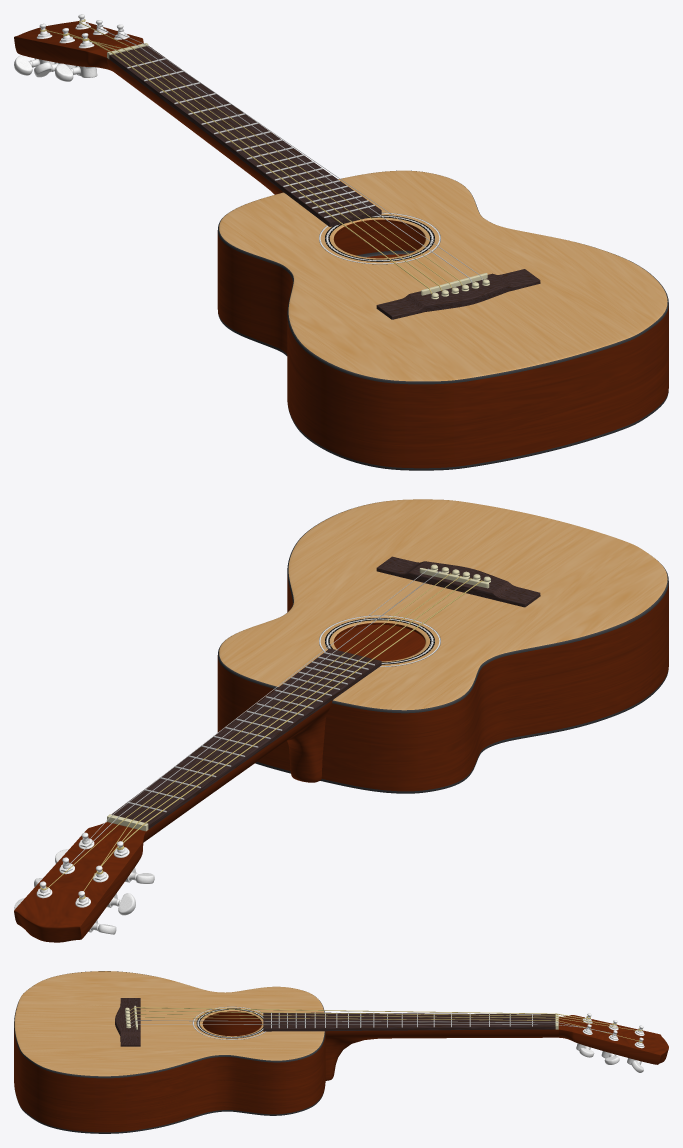
3 renders of one model, top to bottom at view 1: azimuth 30°, elevation 25°; view 2: azimuth 150°, elevation 25°; view 3: azimuth 270°, elevation 25°, orthographic. The views are drawn at different scales.
Visible parts, largest first — view 1: body_2, neck_4, bridge_3, 1-2-3-4string_8, tuning.016_10, frets_6, 5-6string_7, pattern_9, bridge-pins-saddle-nut_5; view 2: body_2, neck_4, bridge_3, 1-2-3-4string_8, tuning.016_10, frets_6, 5-6string_7, pattern_9, bridge-pins-saddle-nut_5; view 3: body_2, neck_4, 1-2-3-4string_8, 5-6string_7, bridge_3, tuning.016_10, pattern_9, frets_6.
Part boxes in pixels (box(x1,y1,x2,y2)): body_2: box(217, 170, 668, 470); neck_4: box(14, 21, 381, 226); bridge_3: box(376, 269, 540, 319); 1-2-3-4string_8: box(40, 19, 462, 293); tuning.016_10: box(14, 14, 152, 81); frets_6: box(127, 58, 374, 217); 5-6string_7: box(96, 25, 482, 283); pattern_9: box(319, 212, 440, 264); bridge-pins-saddle-nut_5: box(107, 43, 489, 299); body_2: box(217, 499, 668, 793); neck_4: box(14, 648, 381, 942); bridge_3: box(376, 556, 540, 607); 1-2-3-4string_8: box(40, 573, 484, 899); tuning.016_10: box(14, 832, 154, 934); frets_6: box(127, 652, 374, 812); 5-6string_7: box(63, 568, 442, 865); pattern_9: box(319, 615, 440, 666); bridge-pins-saddle-nut_5: box(107, 564, 490, 831); body_2: box(14, 971, 325, 1133); neck_4: box(263, 1012, 668, 1080); 1-2-3-4string_8: box(129, 1007, 642, 1042); 5-6string_7: box(130, 1020, 616, 1035); bridge_3: box(115, 998, 140, 1046); tuning.016_10: box(576, 1013, 644, 1072); pattern_9: box(192, 1006, 265, 1039); frets_6: box(271, 1012, 532, 1028).
Size of the model in its own units: 1.91 by 0.5531 by 5.
13 materials, 13 textured.
